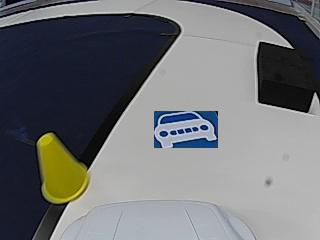block: (257, 41, 318, 111)
cone: (32, 134, 91, 204)
